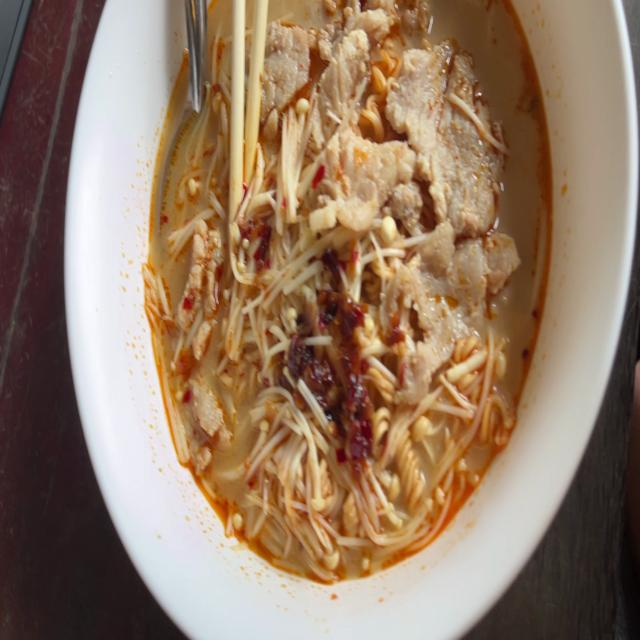noodle: (145, 0, 557, 582)
